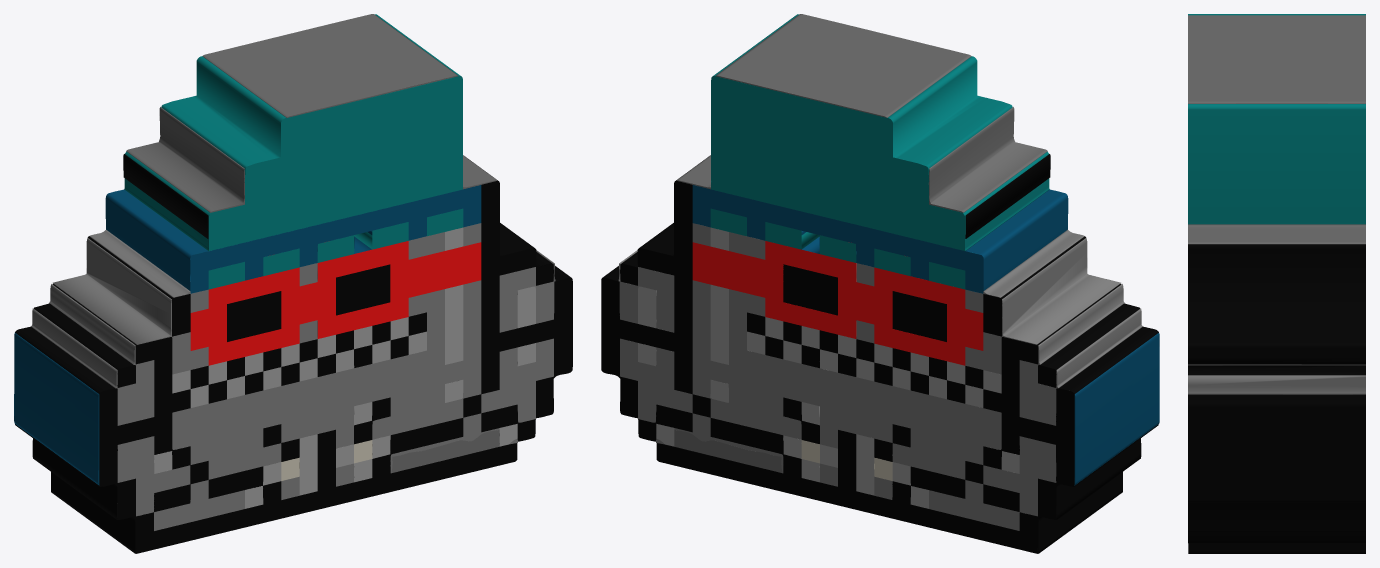
Rendered from Toadz_4546.glb.
The picture shows the model from 3 angles, left to right: view 1: azimuth 30°, elevation 25°; view 2: azimuth 150°, elevation 25°; view 3: azimuth 270°, elevation 25°; orthographic projection. The views are drawn at different scales.
Visible parts, largest first — view 1: Curve; view 2: Curve; view 3: Curve.
Part boxes in pixels (box(x1,y1,x2,y2)): Curve: box(14, 14, 572, 553); Curve: box(601, 14, 1159, 553); Curve: box(1188, 14, 1365, 553).
Size of the model in its own units: 3.25 by 2.62 by 1.
